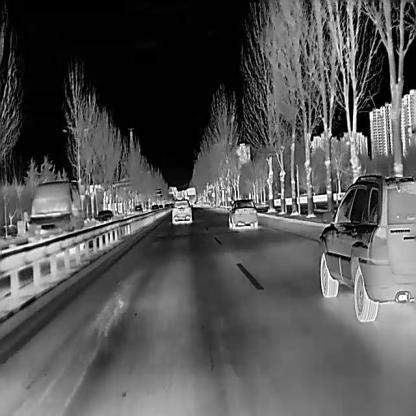car: (318, 171, 415, 322), (226, 198, 258, 228), (170, 196, 191, 224), (94, 207, 112, 228), (133, 203, 143, 218), (150, 203, 158, 212), (158, 204, 163, 210)
truck: (27, 178, 82, 254)
